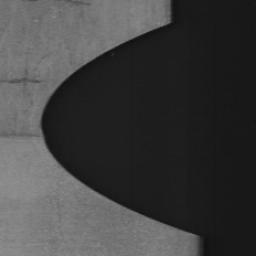Crescent gap: (41, 14, 196, 235)
